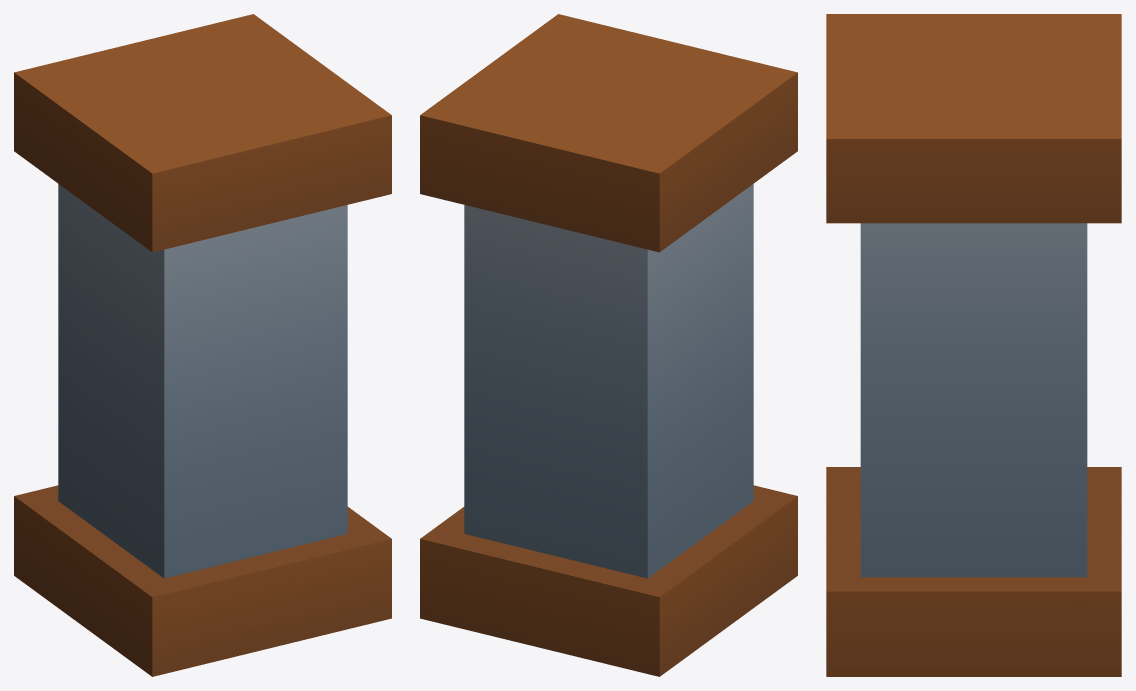
File: Pillar.FBX
The picture shows the model from 3 angles, left to right: view 1: azimuth 30°, elevation 25°; view 2: azimuth 150°, elevation 25°; view 3: azimuth 270°, elevation 25°; orthographic projection. The views are drawn at different scales.
Parts seen in each view (by area): view 1: Pillar; view 2: Pillar; view 3: Pillar.
Boxes of the visible parts, x1,y1,x2,y2 form: Pillar: (14, 14, 391, 676); Pillar: (420, 14, 797, 676); Pillar: (826, 14, 1121, 676).
Bounding box in the file's own units: 1 × 2.01 × 1.
